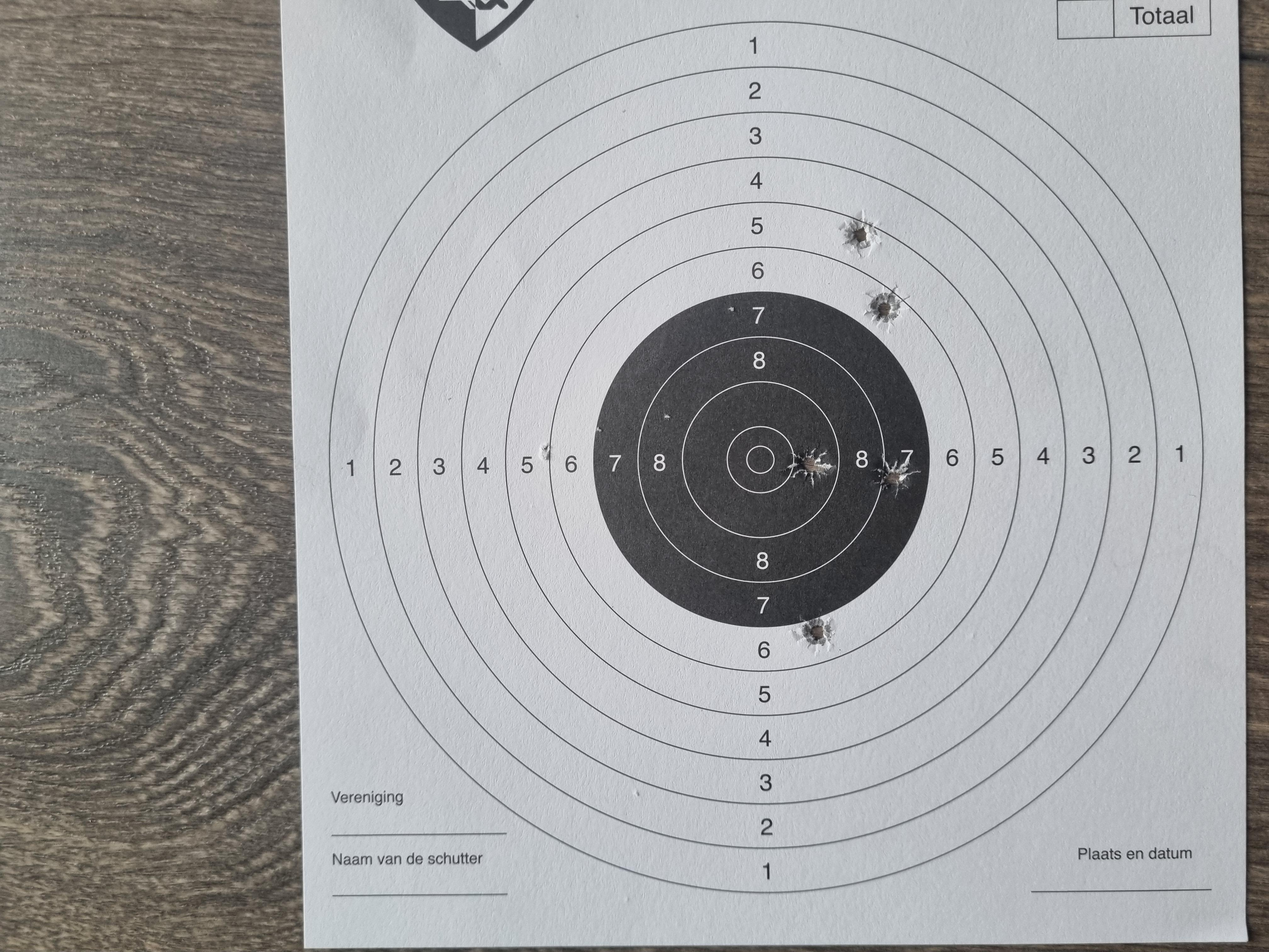hole: (837, 650, 891, 679), (930, 634, 985, 661), (626, 592, 671, 624), (403, 597, 449, 628), (608, 658, 660, 685)
